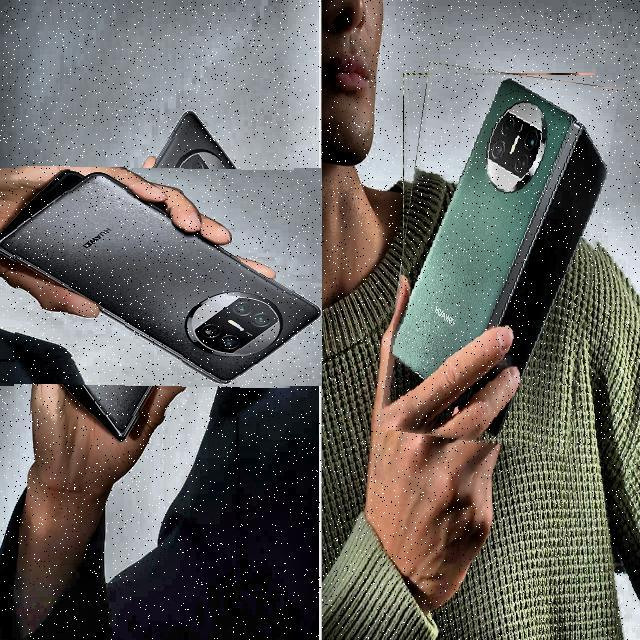Phone: (390, 68, 608, 450), (15, 137, 293, 417)
